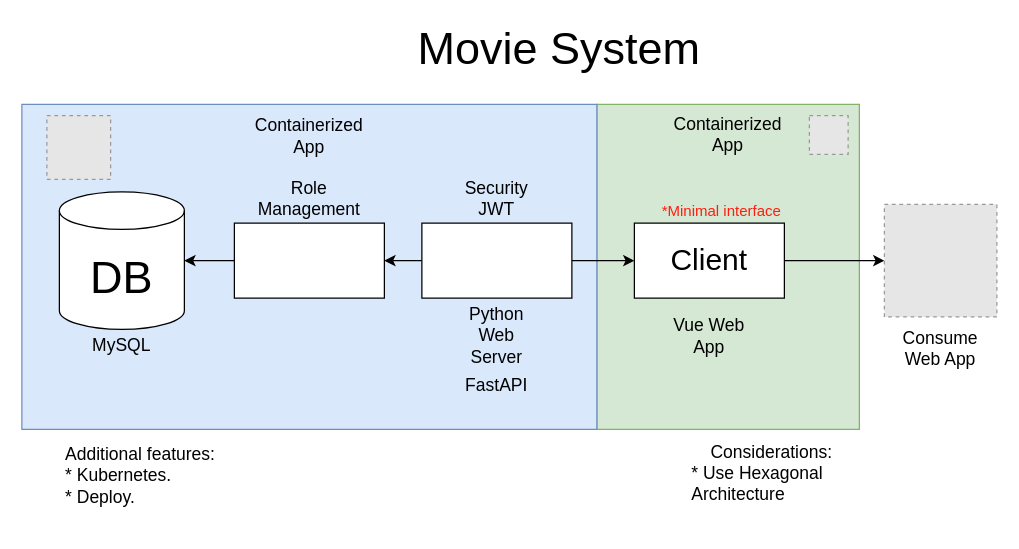
Some shapes in this 1019 by 549 pixel diagram are drawn without their labels. Grey dashed boxes stand in for pictures. The centre of each missing label's shape, as x and y in pixels:
API: point 496,260
Models: User Movie: point 308,260
